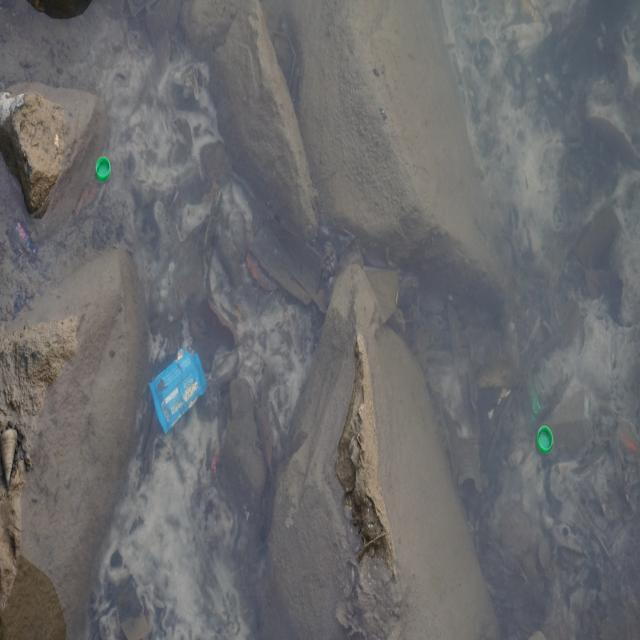Botol Plastik: (533, 418, 559, 459), (91, 149, 116, 189)
Bungkus Makanan: (147, 336, 217, 435)
